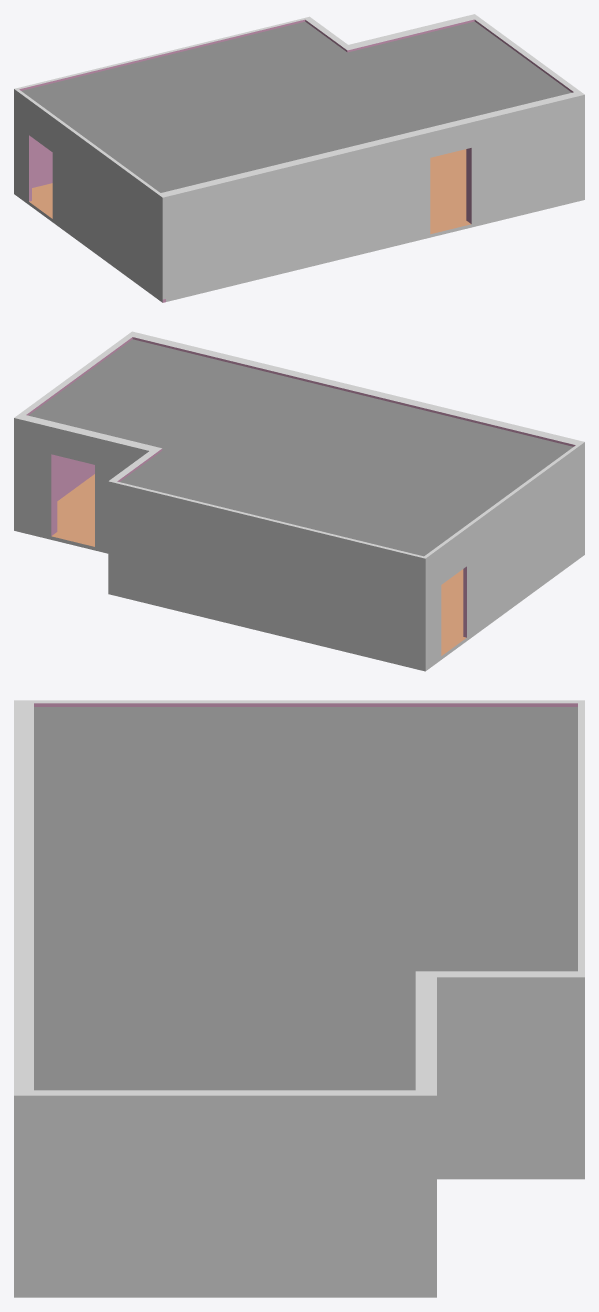
Rendered from Raum3_2.fbx.
The picture shows the model from 3 angles, top to bottom: view 1: azimuth 30°, elevation 25°; view 2: azimuth 150°, elevation 25°; view 3: azimuth 270°, elevation 25°; orthographic projection. The views are drawn at different scales.
Visible parts, largest first — view 1: Cube; view 2: Cube; view 3: Cube.
Boxes of the visible parts, x1=… form: Cube: x1=14, y1=14, x2=584, y2=302; Cube: x1=14, y1=331, x2=584, y2=671; Cube: x1=14, y1=700, x2=584, y2=1297.
Bounding box in the file's own units: 1328 × 316 × 810.
